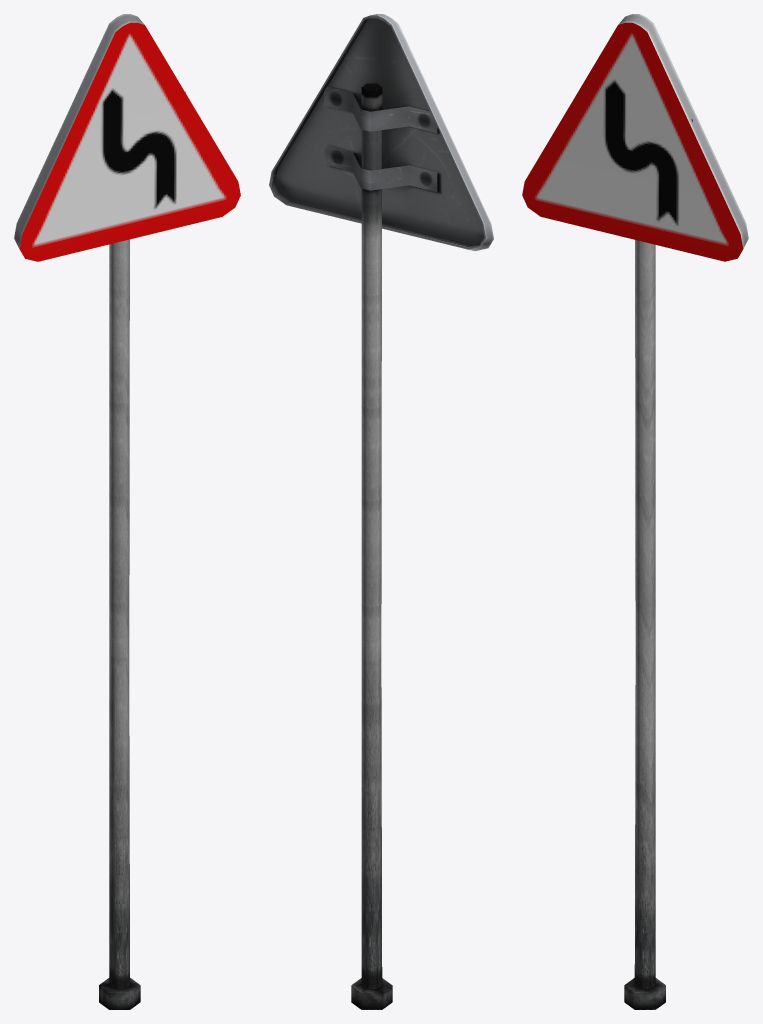
The model's file is ROD0310080.FBX.
3 renders of one model, left to right at view 1: azimuth 30°, elevation 25°; view 2: azimuth 150°, elevation 25°; view 3: azimuth 330°, elevation 25°, orthographic.
Parts seen in each view (by area): view 1: smROD0310080; view 2: smROD0310080; view 3: smROD0310080.
Boxes of the visible parts, left/top/right/bottom form: smROD0310080: left=14, top=14, right=240, bottom=1009; smROD0310080: left=269, top=14, right=493, bottom=1009; smROD0310080: left=522, top=14, right=748, bottom=1009.
Bounding box in the file's own units: 0.7052 × 3.02 × 0.1216.
Materials: 1 (1 with a texture image).
